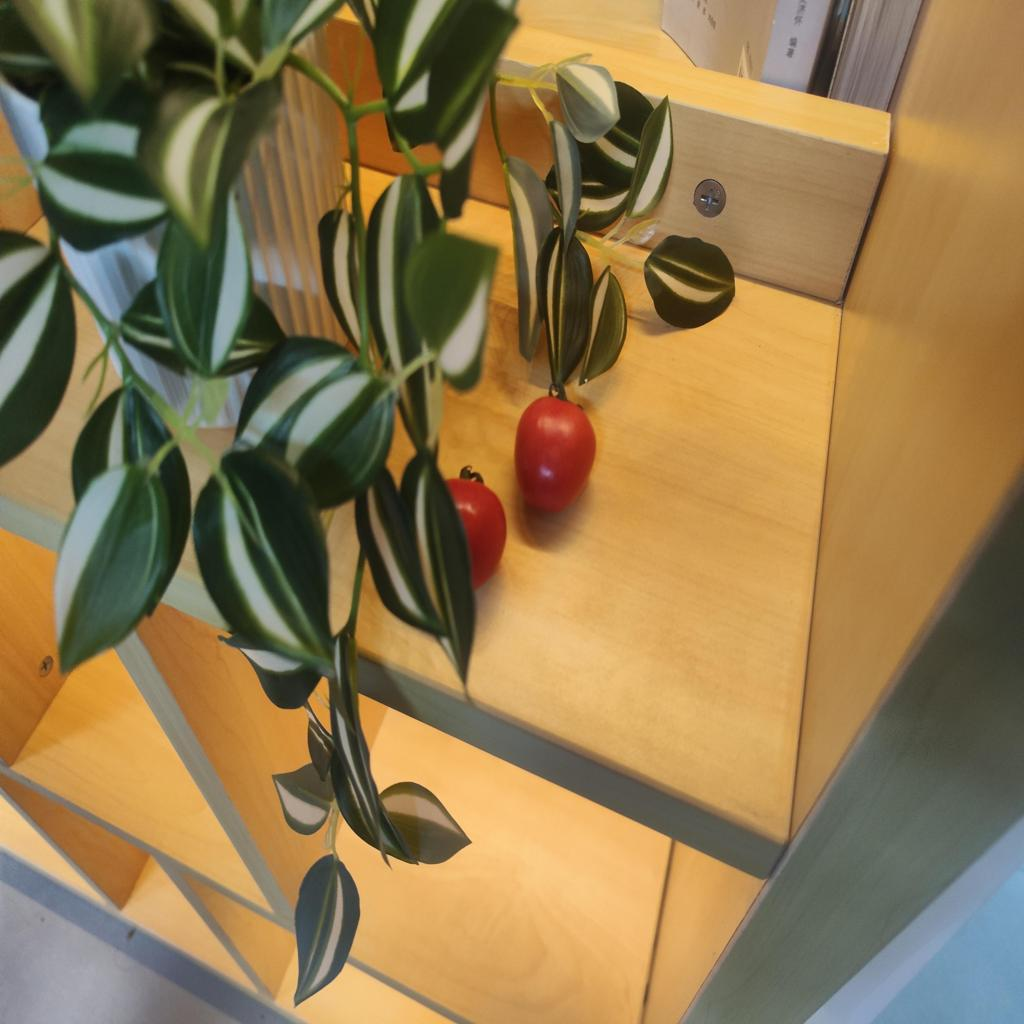tomato: (515, 390, 607, 518), (437, 472, 517, 594)
